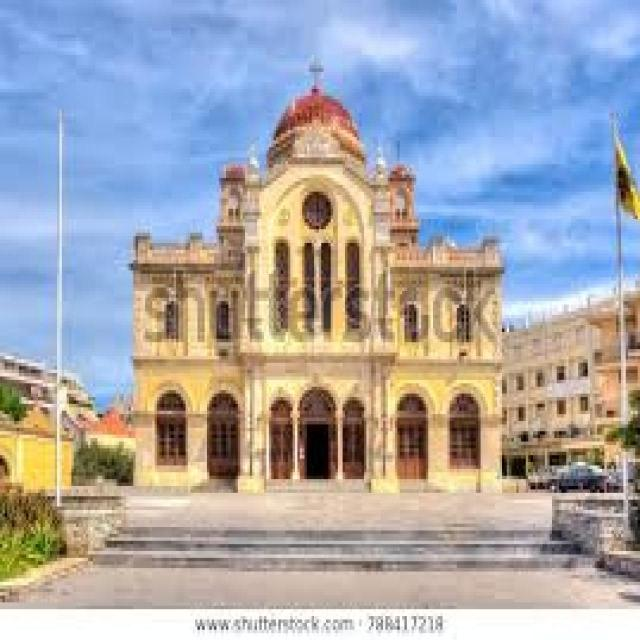Agios Minas: (122, 40, 510, 498)
